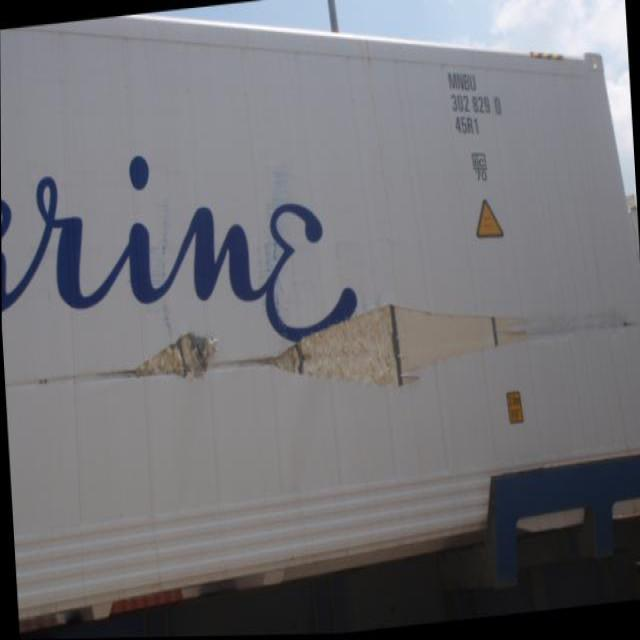hole: (266, 289, 537, 401), (134, 330, 225, 401), (6, 366, 140, 396), (221, 355, 272, 376)
